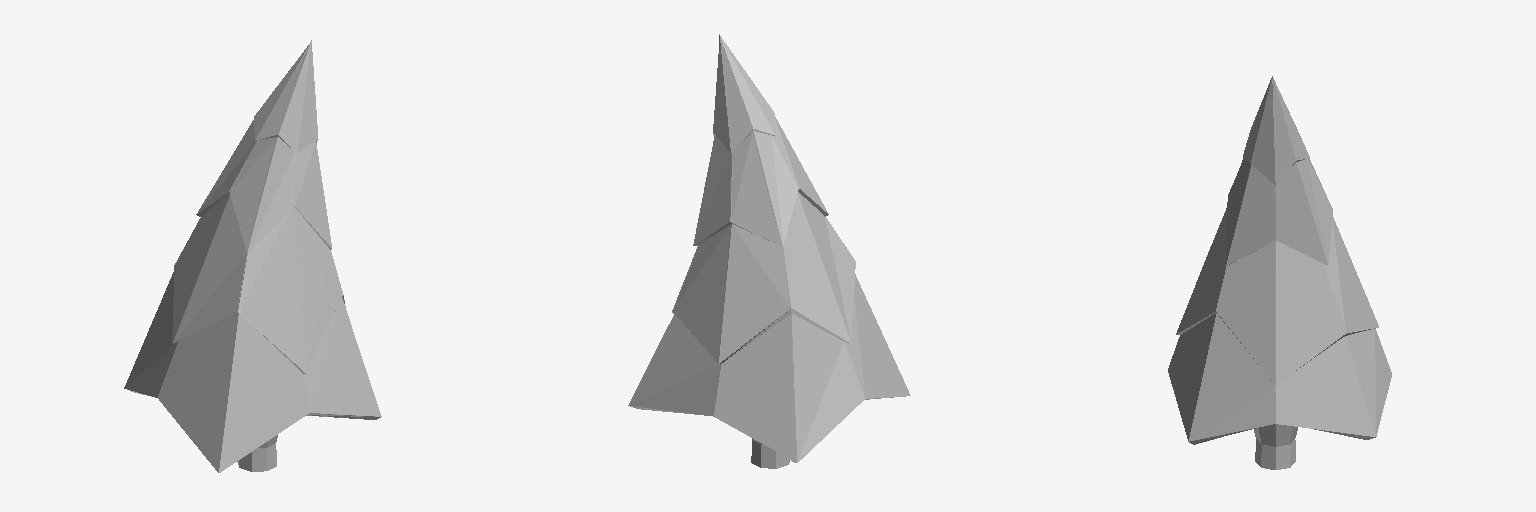
The model's file is pineTreeFinal.obj.
3 renders of one model, left to right at view 1: azimuth 30°, elevation 25°; view 2: azimuth 150°, elevation 25°; view 3: azimuth 270°, elevation 25°, orthographic.
Parts seen in each view (by area): view 1: treeGeo; view 2: treeGeo; view 3: treeGeo.
Part boxes in pixels (left/top/right/bottom): treeGeo: left=124, top=40, right=381, bottom=472; treeGeo: left=628, top=34, right=910, bottom=468; treeGeo: left=1168, top=76, right=1391, bottom=469.
Size of the model in its own units: 2.58 by 5.19 by 2.56.